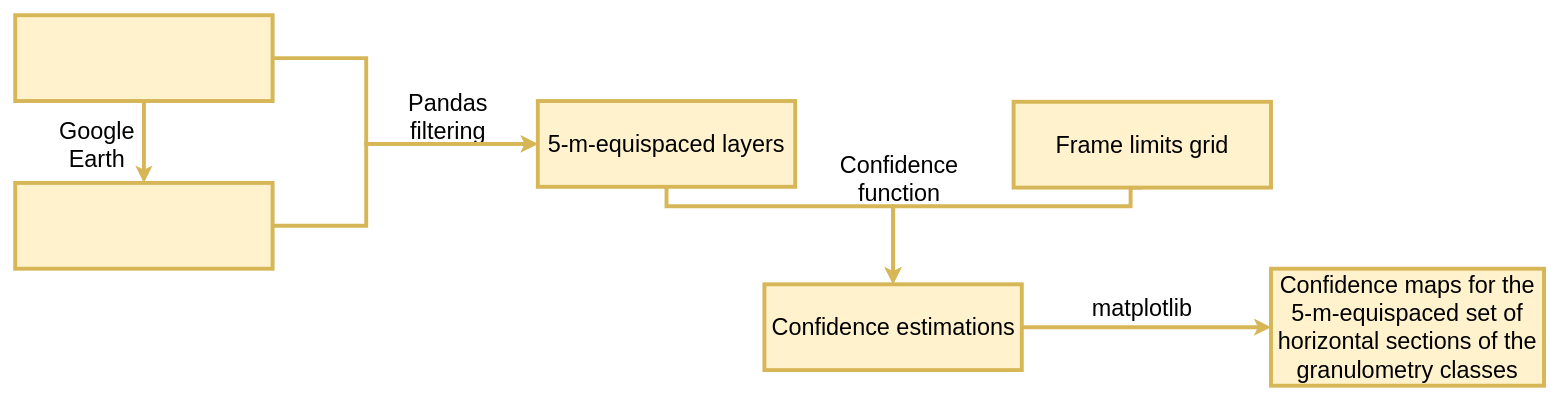
Image size: 1559x401. Some labels were removed from this diagram. Here are the shapes that lost their labels. From the top down, the centre of each, then its label:
At point (143, 58): "Data boreholes hsd new basements.xls".
At point (143, 225): "LRD contour".
